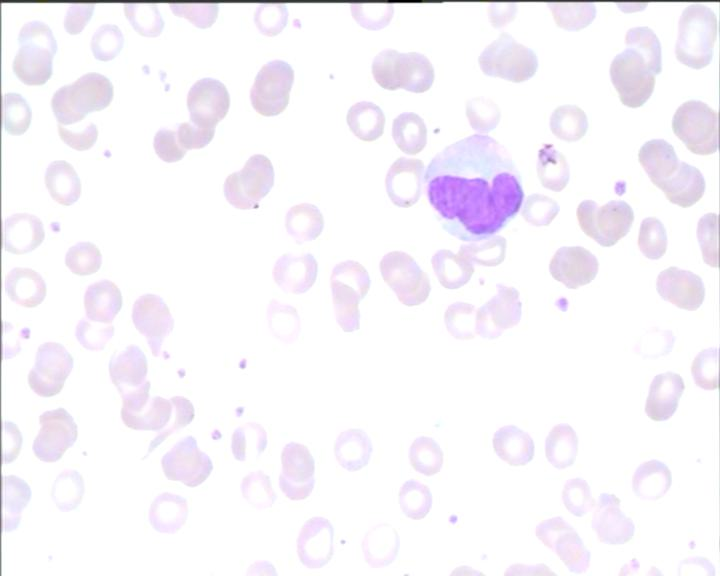mono: (426, 126, 525, 242)
